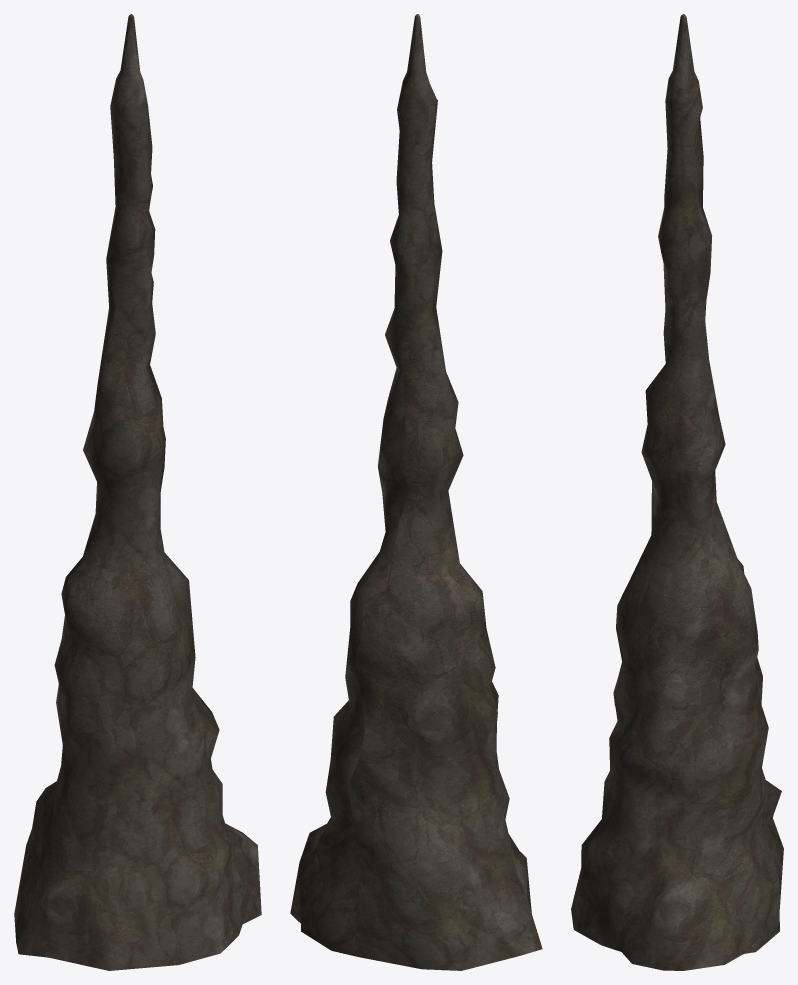
The model's file is Rock13.fbx.
The picture shows the model from 3 angles, left to right: view 1: azimuth 30°, elevation 25°; view 2: azimuth 150°, elevation 25°; view 3: azimuth 270°, elevation 25°; orthographic projection.
Visible parts, largest first — view 1: Rock13; view 2: Rock13; view 3: Rock13.
Boxes of the visible parts, <box> form: Rock13: <box>14,14,261,970</box>; Rock13: <box>290,14,542,970</box>; Rock13: <box>571,14,783,970</box>.
Bounding box in the file's own units: 47.61 × 174 × 37.29.
